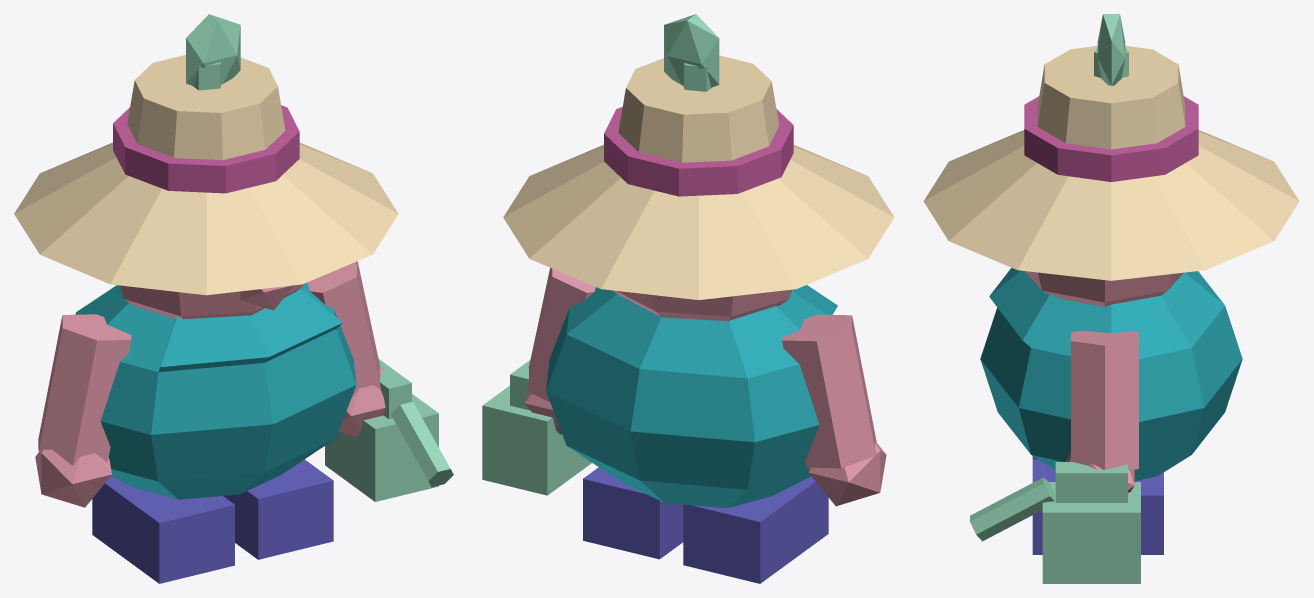
File: keeper.glb
The picture shows the model from 3 angles, left to right: view 1: azimuth 30°, elevation 25°; view 2: azimuth 150°, elevation 25°; view 3: azimuth 270°, elevation 25°; orthographic projection. The views are drawn at different scales.
Visible parts, largest first — view 1: Hat, Body, Skin, Boots, Greens, Ribbon; view 2: Hat, Body, Skin, Boots, Greens, Ribbon; view 3: Hat, Body, Greens, Skin, Ribbon, Boots.
Part boxes in pixels (bbox=[...]): Hat: bbox=[14, 55, 398, 295]; Body: bbox=[75, 282, 356, 499]; Skin: bbox=[35, 261, 385, 507]; Boots: bbox=[92, 459, 333, 583]; Greens: bbox=[186, 14, 453, 501]; Ribbon: bbox=[113, 105, 299, 193]; Hat: bbox=[503, 55, 894, 300]; Body: bbox=[546, 285, 837, 508]; Skin: bbox=[524, 267, 886, 506]; Boots: bbox=[583, 467, 828, 583]; Greens: bbox=[482, 14, 719, 495]; Ribbon: bbox=[604, 107, 793, 196]; Hat: bbox=[923, 45, 1299, 280]; Body: bbox=[980, 268, 1242, 480]; Greens: bbox=[970, 14, 1140, 583]; Skin: bbox=[1025, 271, 1183, 492]; Ribbon: bbox=[1024, 96, 1198, 181]; Boots: bbox=[1032, 456, 1163, 554].
Size of the model in its own units: 0.6353 by 0.8458 by 0.5733.
